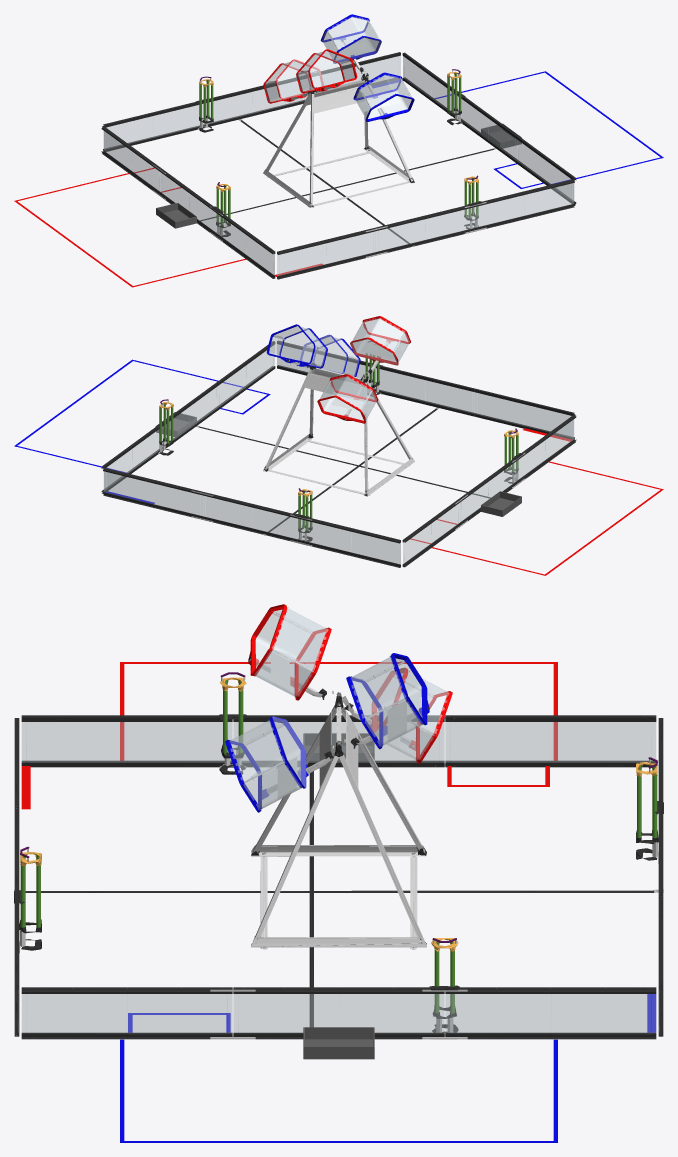
File: field.glb
3 views of the same model, one above another, from view 1: azimuth 30°, elevation 25°; view 2: azimuth 150°, elevation 25°; view 3: azimuth 270°, elevation 25° (orthographic). The views are drawn at different scales.
Visible parts, largest first — view 1: static_part_20, static_part_6, blue_hive, static_part_4, red_hive, static_part_9, static_part_2, static_part_0, static_part_1; view 2: static_part_20, static_part_6, red_hive, static_part_4, blue_hive, static_part_9, static_part_2, static_part_1, static_part_0; view 3: static_part_20, static_part_6, static_part_4, blue_hive, red_hive, static_part_2, static_part_9, static_part_1, static_part_0, static_part_7.
Boxes of the visible parts, x1=… form: static_part_20: x1=103, y1=55, x2=574, y2=275; static_part_6: x1=101, y1=52, x2=576, y2=279; blue_hive: x1=320, y1=14, x2=414, y2=121; static_part_4: x1=152, y1=79, x2=486, y2=257; red_hive: x1=263, y1=49, x2=357, y2=103; static_part_9: x1=199, y1=73, x2=478, y2=225; static_part_2: x1=156, y1=123, x2=521, y2=228; static_part_0: x1=14, y1=168, x2=322, y2=287; static_part_1: x1=372, y1=71, x2=663, y2=188; static_part_20: x1=103, y1=344, x2=574, y2=564; static_part_6: x1=101, y1=340, x2=576, y2=567; red_hive: x1=317, y1=316, x2=410, y2=423; static_part_4: x1=157, y1=367, x2=525, y2=546; blue_hive: x1=266, y1=324, x2=360, y2=376; static_part_9: x1=159, y1=353, x2=518, y2=532; static_part_2: x1=156, y1=412, x2=521, y2=516; static_part_1: x1=14, y1=359, x2=270, y2=503; static_part_0: x1=410, y1=428, x2=663, y2=575; static_part_20: x1=18, y1=722, x2=659, y2=1033; static_part_6: x1=14, y1=694, x2=663, y2=1039; static_part_4: x1=16, y1=705, x2=658, y2=1039; blue_hive: x1=225, y1=653, x2=429, y2=812; red_hive: x1=248, y1=604, x2=452, y2=763; static_part_2: x1=303, y1=733, x2=374, y2=1059; static_part_9: x1=20, y1=679, x2=657, y2=1016; static_part_1: x1=120, y1=994, x2=656, y2=1142; static_part_0: x1=21, y1=662, x2=557, y2=809; static_part_7: x1=20, y1=677, x2=657, y2=951.
Bounding box in the file's own units: 6.38 × 1.7 × 3.65.
